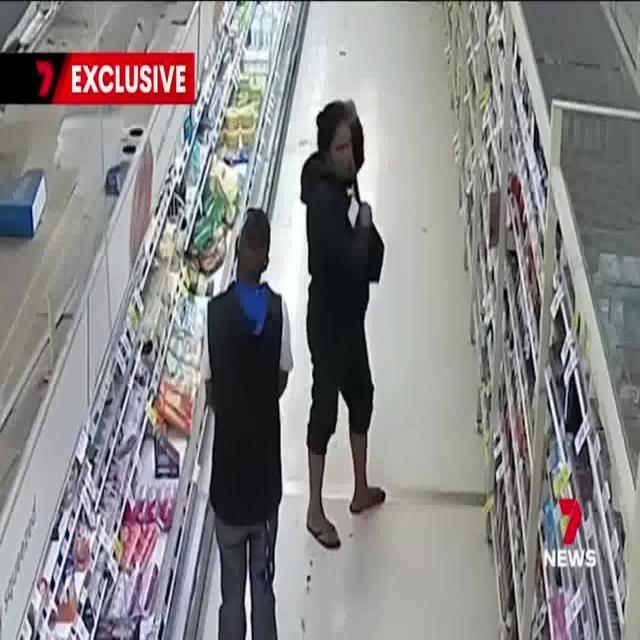persone: (300, 94, 400, 584)
